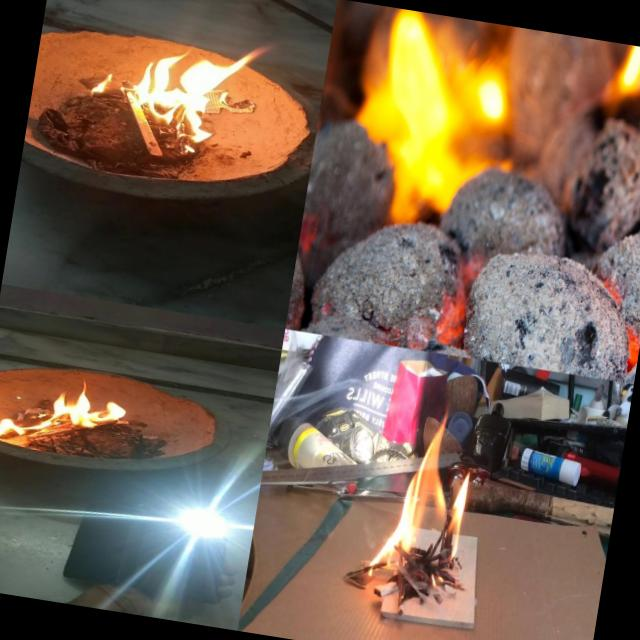fire: (338, 3, 527, 222), (84, 7, 283, 157), (366, 414, 480, 614), (0, 374, 133, 458), (601, 42, 640, 120)
